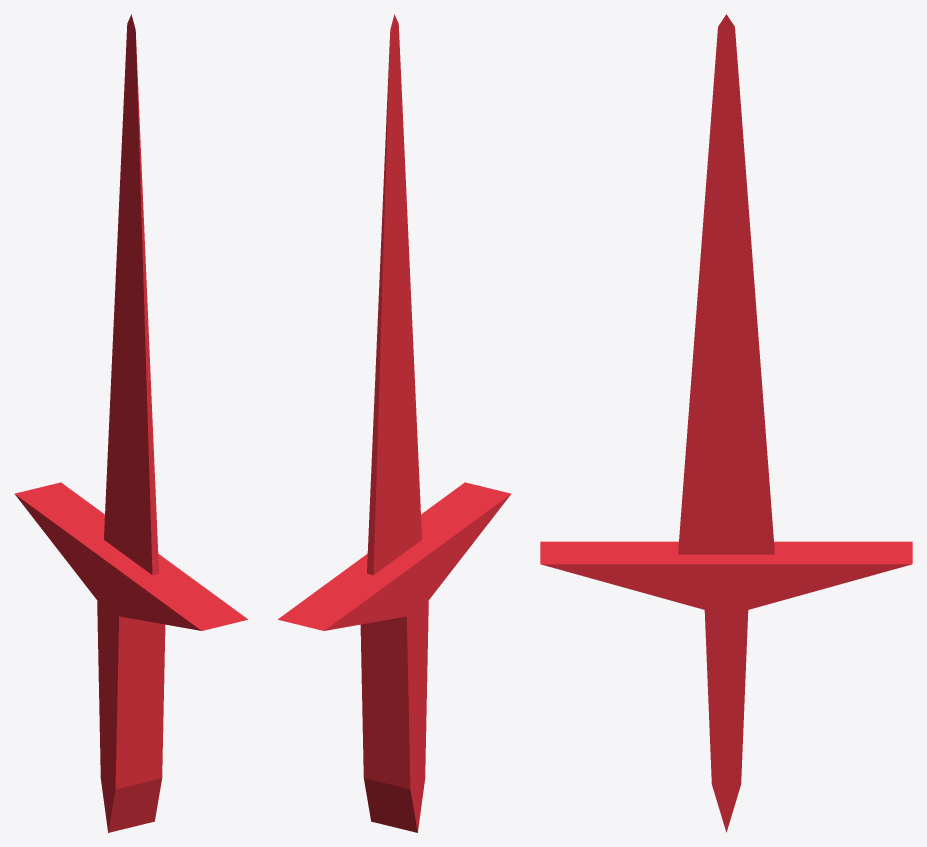
The model's file is sword.fbx.
3 renders of one model, left to right at view 1: azimuth 30°, elevation 25°; view 2: azimuth 150°, elevation 25°; view 3: azimuth 270°, elevation 25°, orthographic.
Parts seen in each view (by area): view 1: Cube; view 2: Cube; view 3: Cube.
Boxes of the visible parts, x1=… form: Cube: x1=14, y1=14, x2=247, y2=832; Cube: x1=278, y1=14, x2=511, y2=832; Cube: x1=540, y1=14, x2=912, y2=832.
Bounding box in the file's own units: 16.56 × 276 × 115.
